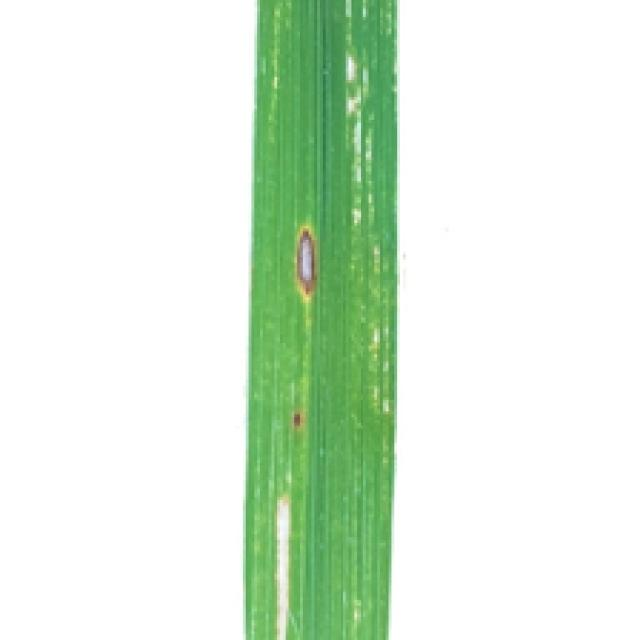Rice___Rice_Blast: (245, 0, 398, 637)
